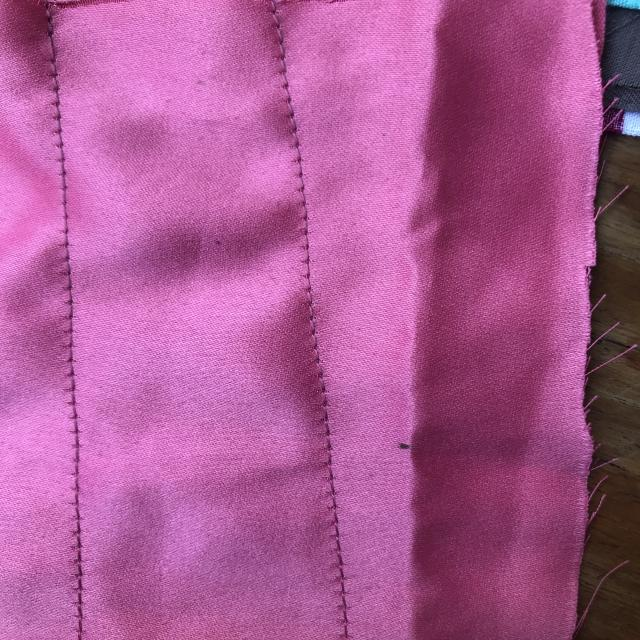good: (264, 62, 334, 204)
